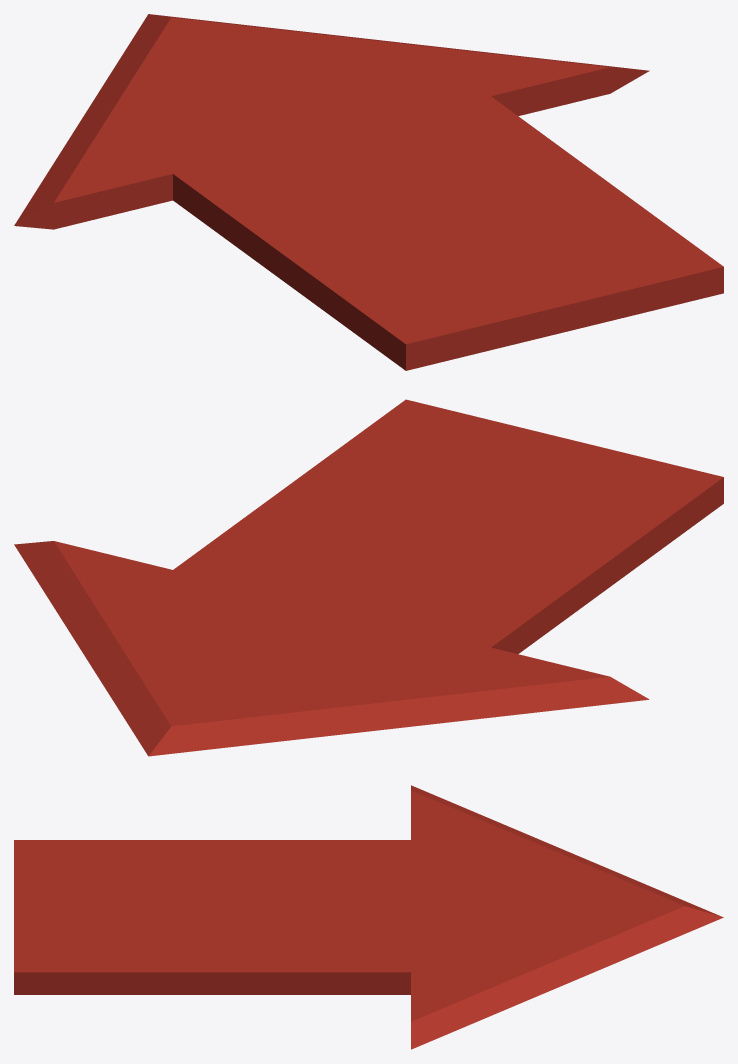
Rendered from ArrowMarker.dae.
The picture shows the model from 3 angles, top to bottom: view 1: azimuth 30°, elevation 25°; view 2: azimuth 150°, elevation 25°; view 3: azimuth 270°, elevation 25°; orthographic projection. The views are drawn at different scales.
Visible parts, largest first — view 1: Plane; view 2: Plane; view 3: Plane.
Part boxes in pixels (x1,y1,x2,y2): Plane: (14,14,723,370); Plane: (14,399,723,756); Plane: (14,785,723,1049).
Bounding box in the file's own units: 2.83 × 3.21 × 0.1133.
